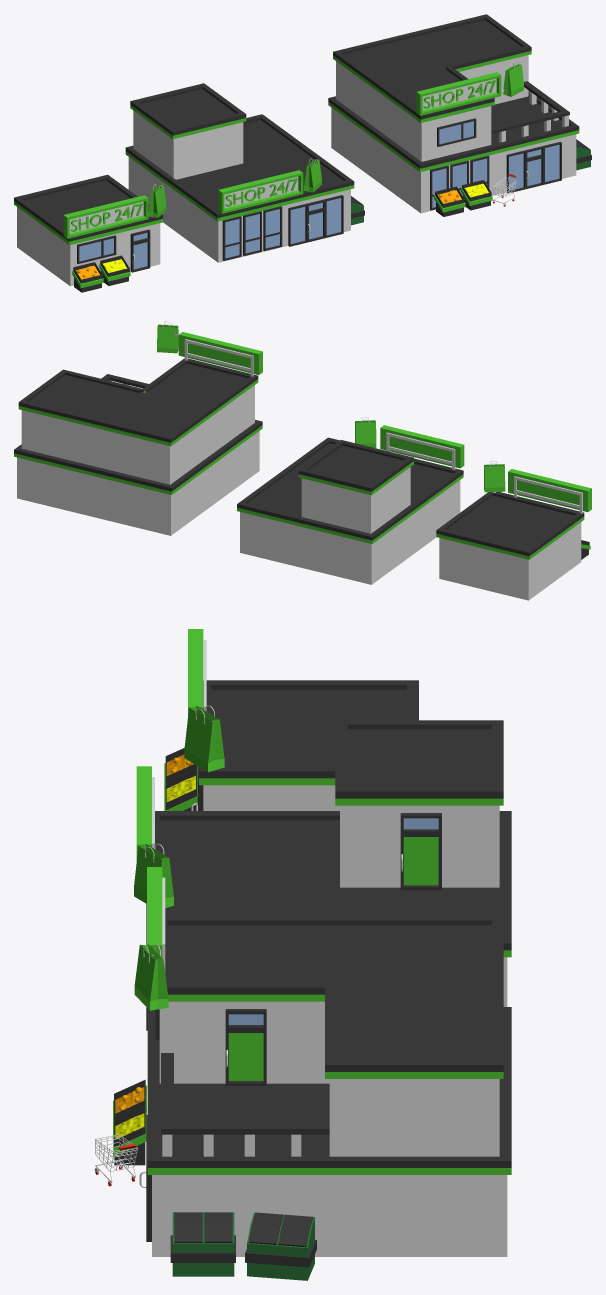
File: shop.fbx
3 views of the same model, one above another, from view 1: azimuth 30°, elevation 25°; view 2: azimuth 150°, elevation 25°; view 3: azimuth 270°, elevation 25° (orthographic). The views are drawn at different scales.
Visible parts, largest first — view 1: shop_t3, shop_t2, shop_t1; view 2: shop_t3, shop_t2, shop_t1; view 3: shop_t3, shop_t2, shop_t1.
Boxes of the visible parts, x1,y1,x2,y2 form: shop_t3: (328,14,591,216); shop_t2: (125,83,364,262); shop_t1: (14,174,166,292); shop_t3: (14,321,262,535); shop_t2: (237,417,464,584); shop_t1: (436,460,591,600); shop_t3: (94,867,511,1280); shop_t2: (134,720,511,1030); shop_t1: (164,629,418,810).
Bounding box in the file's own units: 2332 × 539 × 810.
